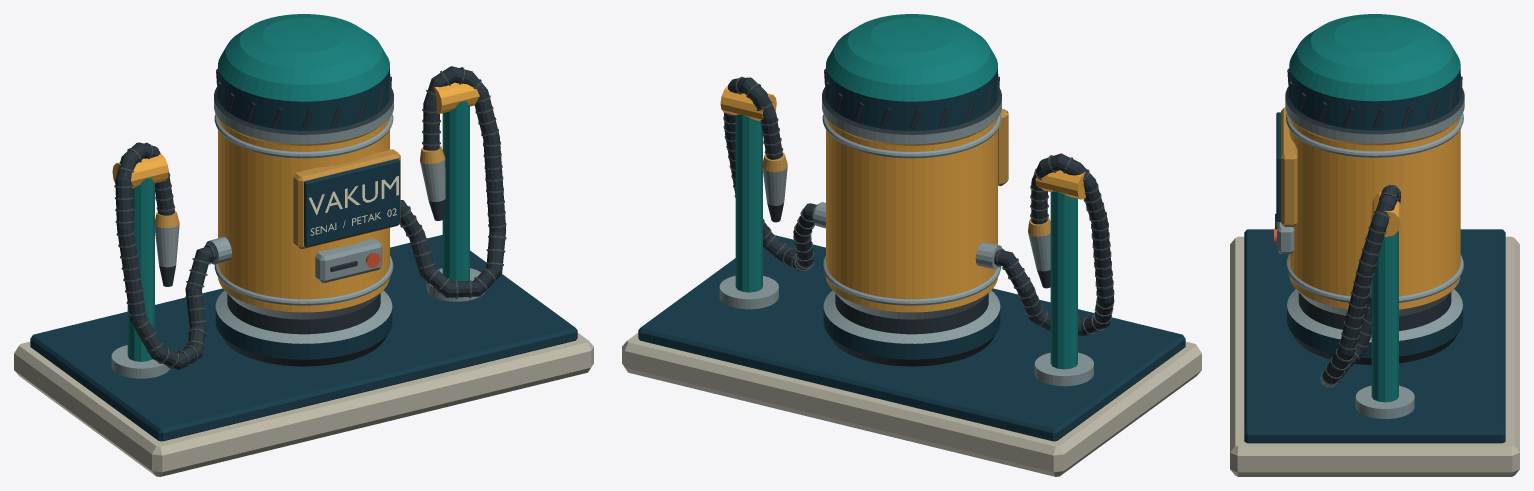
3 views of the same model, side by side, from view 1: azimuth 30°, elevation 25°; view 2: azimuth 150°, elevation 25°; view 3: azimuth 270°, elevation 25° (orthographic).
Visible parts, largest first — view 1: Float Finished Island, Separator Canister, Hose Saddle and Cuff, Flexible Suction Loops, Token Head, Moulded Hose Ribs; view 2: Separator Canister, Float Finished Island, Hose Saddle and Cuff, Flexible Suction Loops, Moulded Hose Ribs, Token Head; view 3: Separator Canister, Float Finished Island, Hose Saddle and Cuff, Flexible Suction Loops, Token Head, Moulded Hose Ribs.
Boxes of the visible parts, x1,y1,x2,y2 form: Float Finished Island: [14, 235, 593, 476]; Separator Canister: [214, 14, 393, 366]; Hose Saddle and Cuff: [111, 82, 485, 378]; Flexible Suction Loops: [115, 66, 506, 369]; Token Head: [293, 149, 400, 282]; Moulded Hose Ribs: [114, 67, 506, 368]; Separator Canister: [822, 14, 1001, 366]; Float Finished Island: [622, 235, 1201, 476]; Hose Saddle and Cuff: [719, 85, 1093, 386]; Flexible Suction Loops: [724, 77, 1113, 335]; Moulded Hose Ribs: [723, 76, 1114, 334]; Token Head: [998, 109, 1008, 185]; Separator Canister: [1285, 14, 1464, 364]; Float Finished Island: [1230, 229, 1519, 476]; Hose Saddle and Cuff: [1355, 192, 1414, 418]; Flexible Suction Loops: [1322, 186, 1400, 386]; Token Head: [1274, 107, 1297, 254]; Moulded Hose Ribs: [1320, 184, 1400, 387].
Bounding box in the file's own units: 1.98 × 1.46 × 1.13.
